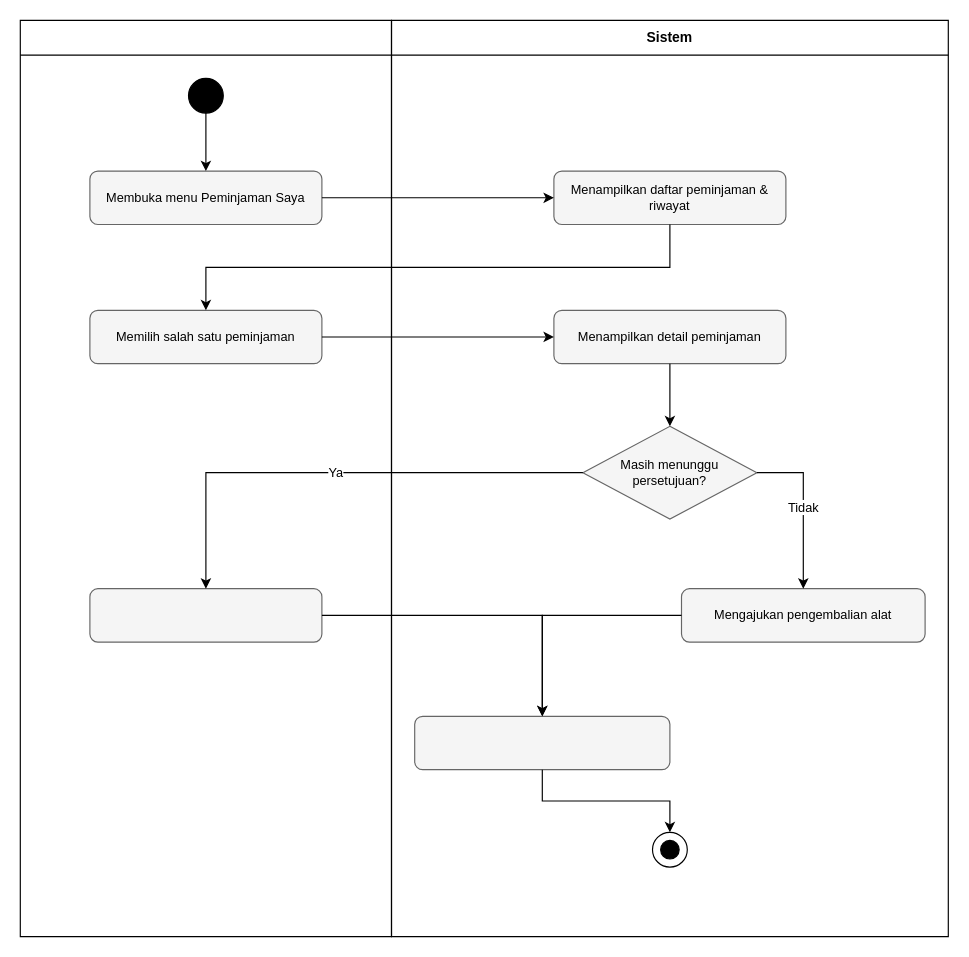
Some shapes in this 969 by 957 pixel diagram are drawn without their labels. The box of each missing label's shape, as (x1, y1, x2, y2) in pixels:
Memperbarui status peminjaman: (414, 715, 670, 770)
Mengubah / membatalkan pengajuan: (89, 588, 322, 642)
Siswa: (19, 19, 392, 937)
